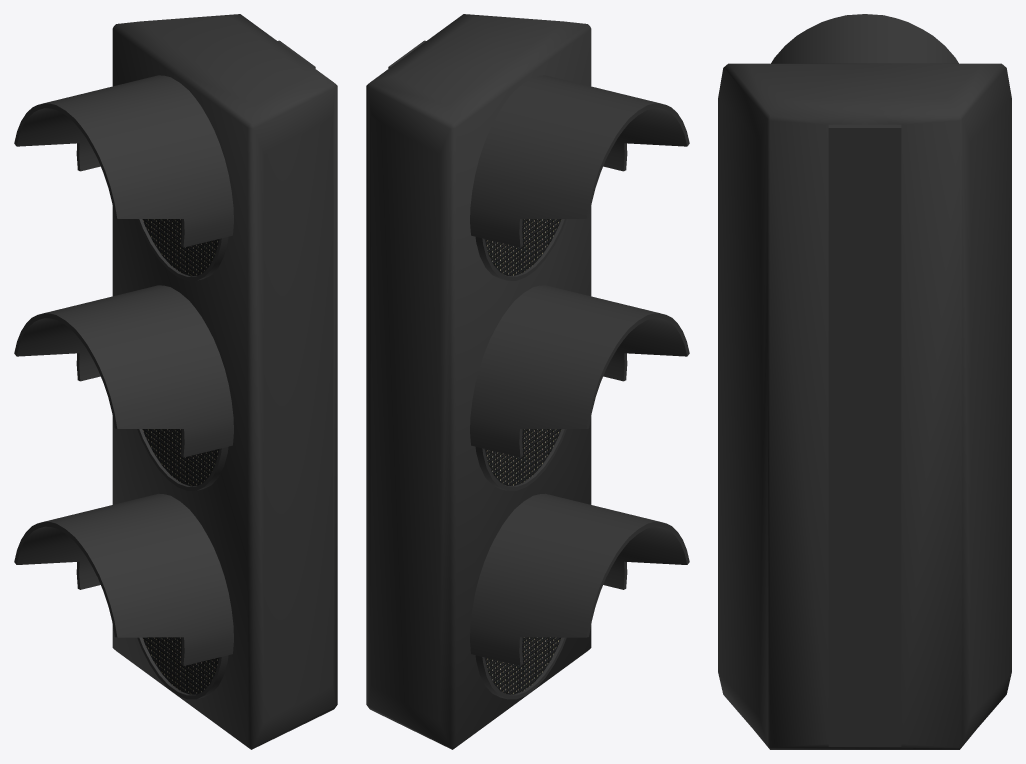
Rendered from 竖排右转灯.fbx.
The picture shows the model from 3 angles, left to right: view 1: azimuth 30°, elevation 25°; view 2: azimuth 150°, elevation 25°; view 3: azimuth 270°, elevation 25°; orthographic projection.
Visible parts, largest first — view 1: 竖排右转灯; view 2: 竖排右转灯; view 3: 竖排右转灯.
Part boxes in pixels (left/top/right/bottom): 竖排右转灯: left=14, top=14, right=337, bottom=749; 竖排右转灯: left=366, top=14, right=689, bottom=749; 竖排右转灯: left=718, top=14, right=1011, bottom=749.
Size of the model in its own units: 0.6 by 1.58 by 0.65.
Materials: 2 (1 with a texture image).
